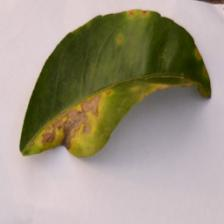canker: (34, 94, 135, 149)
